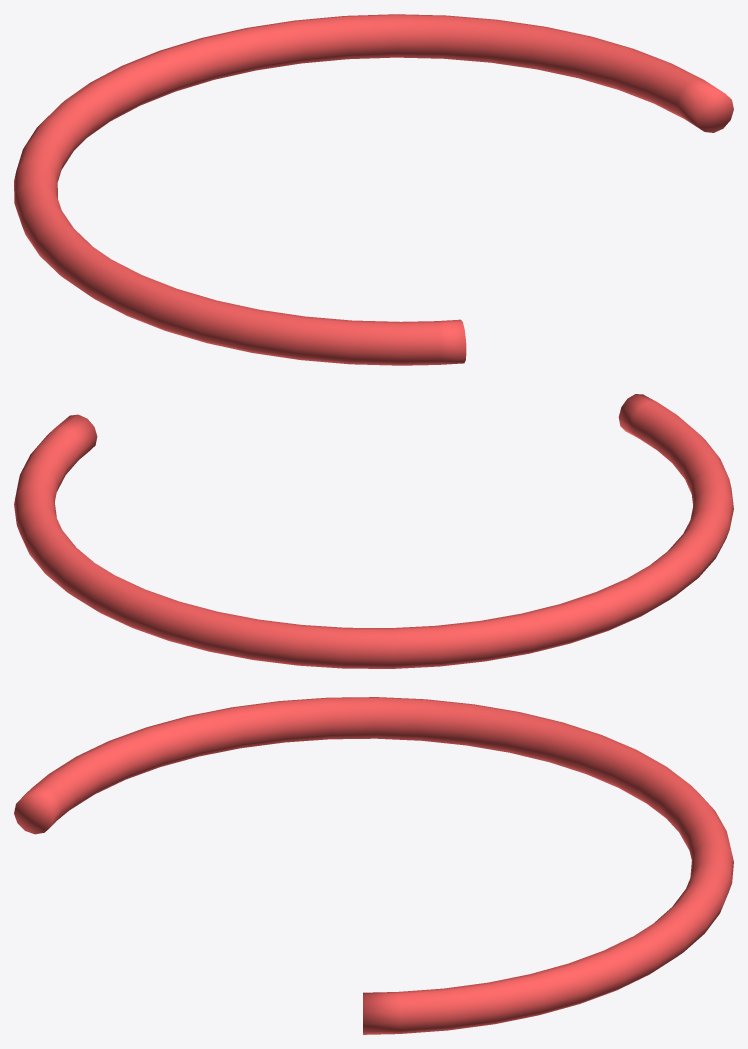
The model's file is circle_rotate_big.FBX.
The picture shows the model from 3 angles, top to bottom: view 1: azimuth 30°, elevation 25°; view 2: azimuth 150°, elevation 25°; view 3: azimuth 270°, elevation 25°; orthographic projection. The views are drawn at different scales.
Parts seen in each view (by area): view 1: circle_rotate_big; view 2: circle_rotate_big; view 3: circle_rotate_big.
Part boxes in pixels (<box>): circle_rotate_big: <box>14,14,733,365</box>; circle_rotate_big: <box>14,394,733,668</box>; circle_rotate_big: <box>14,697,733,1034</box>.
Bounding box in the file's own units: 12.18 × 0.691 × 11.81.
Materials: 1 (1 with a texture image).
